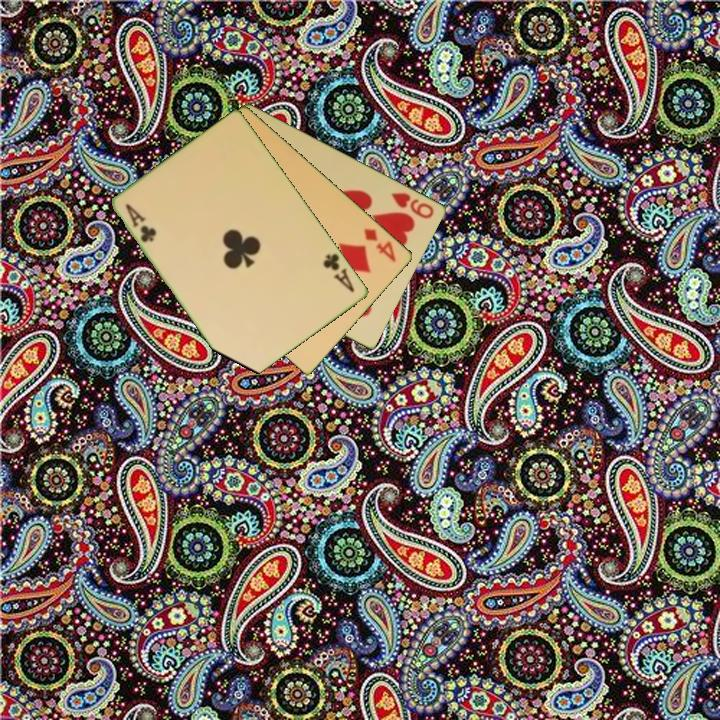4d: (361, 224, 399, 265)
9h: (388, 189, 437, 222)
Ac: (320, 250, 358, 296), (122, 200, 160, 246)
